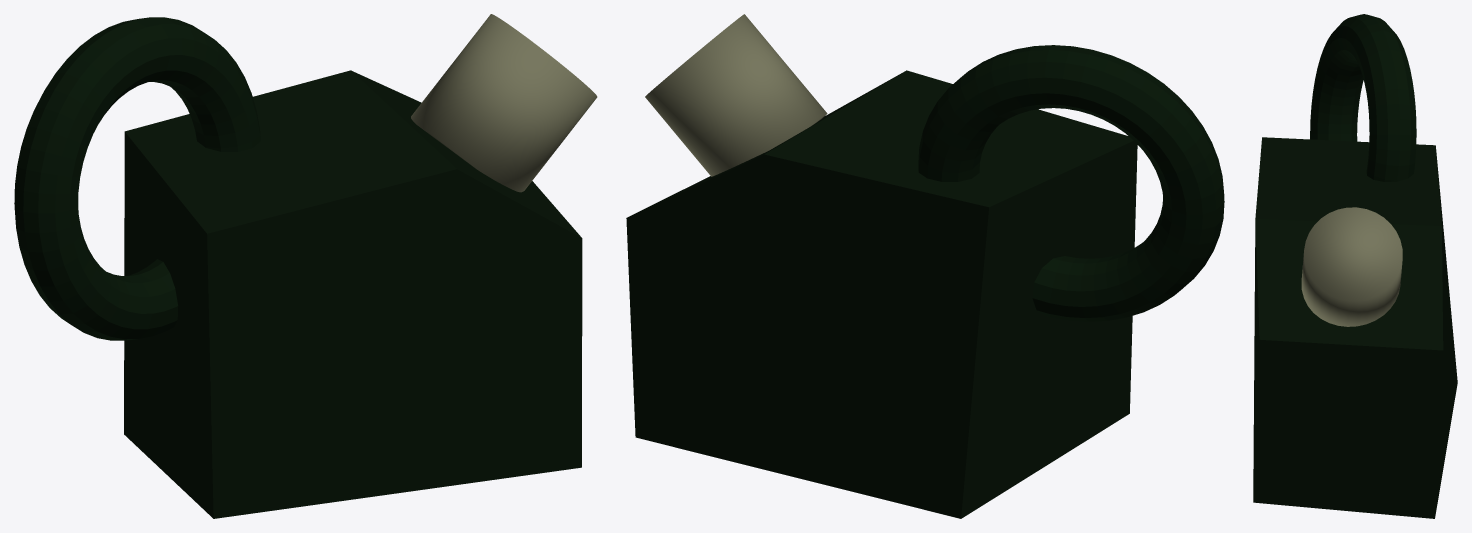
Rendered from fueltank.obj.
3 renders of one model, left to right at view 1: azimuth 30°, elevation 25°; view 2: azimuth 150°, elevation 25°; view 3: azimuth 270°, elevation 25°, orthographic. The views are drawn at different scales.
Visible parts, largest first — view 1: Cube, Torus, Cylinder; view 2: Cube, Torus, Cylinder; view 3: Cube, Torus, Cylinder.
Part boxes in pixels (x1,y1,x2,y2): Cube: (124, 70, 582, 518); Torus: (14, 17, 260, 340); Cylinder: (411, 14, 597, 192); Cube: (626, 70, 1137, 518); Torus: (918, 45, 1224, 321); Cylinder: (645, 14, 827, 176); Cube: (1253, 137, 1457, 518); Torus: (1310, 14, 1416, 181); Cylinder: (1301, 207, 1402, 326).
Bounding box in the file's own units: 3.05 × 2.4 × 1.28.
